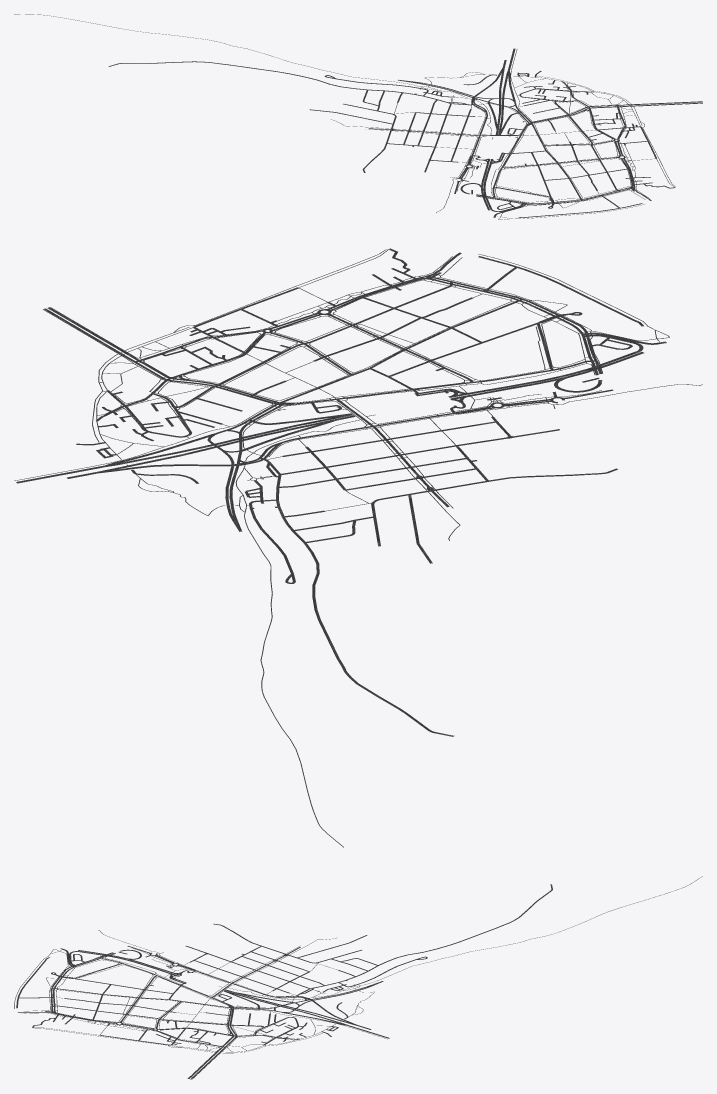
File: roads.glb
The picture shows the model from 3 angles, top to bottom: view 1: azimuth 30°, elevation 25°; view 2: azimuth 150°, elevation 25°; view 3: azimuth 270°, elevation 25°; orthographic projection. The views are drawn at different scales.
Parts seen in each view (by area): view 1: GN Instance (×3), map_18.osm_roads_tertiary, map_18.osm_paths_cycleway; view 2: GN Instance (×3), map_18.osm_roads_tertiary, map_18.osm_paths_cycleway; view 3: GN Instance (×3), map_18.osm_roads_tertiary.
Boxes of the visible parts, bbox=[...] form: GN Instance (×3): bbox=[14, 14, 702, 219]; map_18.osm_roads_tertiary: bbox=[108, 61, 694, 217]; map_18.osm_paths_cycleway: bbox=[26, 14, 685, 218]; GN Instance (×3): bbox=[14, 248, 702, 847]; map_18.osm_roads_tertiary: bbox=[44, 248, 638, 735]; map_18.osm_paths_cycleway: bbox=[15, 249, 698, 828]; GN Instance (×3): bbox=[14, 876, 702, 1079]; map_18.osm_roads_tertiary: bbox=[16, 924, 504, 1078].
Bounding box in the file's own units: 5561 × 0.91 × 7953.
1 material, 1 textured.
